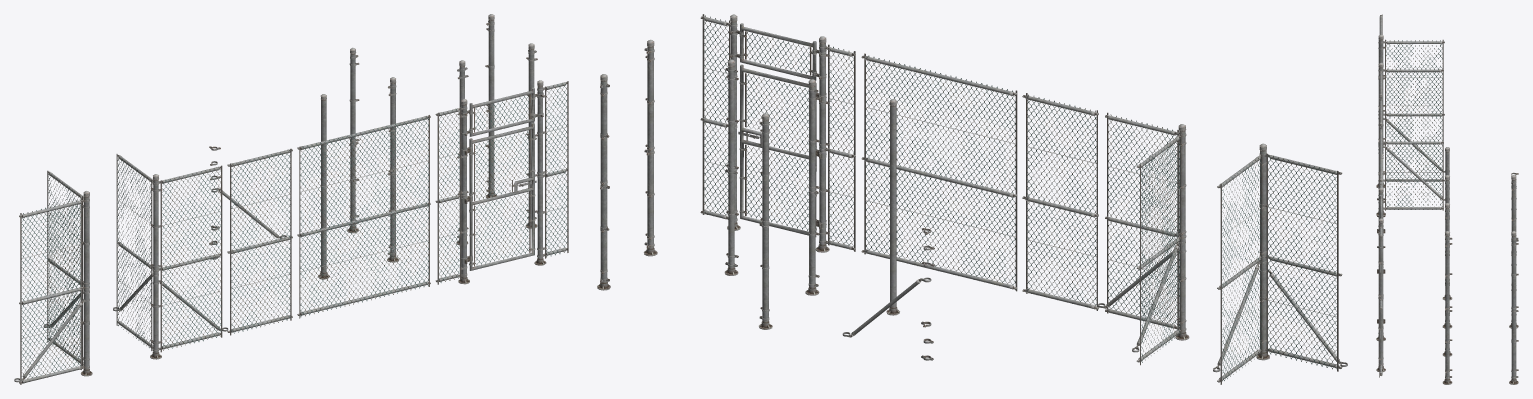
The model's file is chainlink_fence.glb.
3 views of the same model, side by side, from view 1: azimuth 30°, elevation 25°; view 2: azimuth 150°, elevation 25°; view 3: azimuth 270°, elevation 25° (orthographic). The views are drawn at different scales.
Visible parts, largest first — view 1: modular_chainlink_fence_double, modular_chainlink_fence_corner_outer, modular_chainlink_fence_corner_inner, modular_chainlink_fence_door_frame, modular_chainlink_fence, modular_chainlink_fence_door_gate, modular_chainlink_fence_start_01_corner_02, modular_chainlink_fence_end_02, modular_chainlink_fence_end_01, modular_chainlink_fence_post, modular_chainlink_fence_start_01_corner_01, modular_chainlink_post_middle; view 2: modular_chainlink_fence_double, modular_chainlink_fence_corner_inner, modular_chainlink_fence_corner_outer, modular_chainlink_fence_door_frame, modular_chainlink_fence, modular_chainlink_fence_door_gate, modular_chainlink_fence_start_01_corner_02, modular_chainlink_post_middle, modular_chainlink_fence_end_01, modular_chainlink_fence_start_01_corner_01, modular_chainlink_fence_end_02, modular_chainlink_fence_post; view 3: modular_chainlink_fence_corner_outer, modular_chainlink_fence_corner_inner, modular_chainlink_fence_door_frame, modular_chainlink_fence_start_01_corner_02, modular_chainlink_fence_start_01_corner_01, modular_chainlink_fence_end_02, modular_chainlink_fence_double, modular_chainlink_fence_end_01, modular_chainlink_post_middle, modular_chainlink_fence_post.
Boxes of the visible parts, x1,y1,x2,y2 form: modular_chainlink_fence_double: [297, 115, 430, 318]; modular_chainlink_fence_corner_outer: [113, 154, 228, 359]; modular_chainlink_fence_corner_inner: [14, 170, 92, 384]; modular_chainlink_fence_door_frame: [435, 80, 568, 284]; modular_chainlink_fence: [227, 148, 292, 335]; modular_chainlink_fence_door_gate: [469, 123, 535, 270]; modular_chainlink_fence_start_01_corner_02: [485, 14, 496, 198]; modular_chainlink_fence_end_02: [347, 47, 359, 233]; modular_chainlink_fence_end_01: [387, 77, 398, 262]; modular_chainlink_fence_post: [317, 94, 329, 279]; modular_chainlink_fence_start_01_corner_01: [525, 43, 537, 228]; modular_chainlink_post_middle: [456, 60, 468, 245]; modular_chainlink_fence_double: [861, 53, 1017, 291]; modular_chainlink_fence_corner_inner: [1213, 143, 1347, 384]; modular_chainlink_fence_corner_outer: [1097, 112, 1189, 365]; modular_chainlink_fence_door_frame: [700, 14, 855, 252]; modular_chainlink_fence: [1022, 93, 1098, 310]; modular_chainlink_fence_door_gate: [739, 64, 816, 236]; modular_chainlink_fence_start_01_corner_02: [597, 74, 610, 290]; modular_chainlink_post_middle: [724, 59, 738, 275]; modular_chainlink_fence_end_01: [805, 79, 819, 295]; modular_chainlink_fence_start_01_corner_01: [643, 39, 657, 256]; modular_chainlink_fence_end_02: [758, 113, 772, 329]; modular_chainlink_fence_post: [886, 99, 899, 315]; modular_chainlink_fence_corner_outer: [1376, 62, 1449, 233]; modular_chainlink_fence_corner_inner: [1376, 14, 1449, 188]; modular_chainlink_fence_door_frame: [1376, 182, 1385, 377]; modular_chainlink_fence_start_01_corner_02: [1509, 231, 1518, 384]; modular_chainlink_fence_start_01_corner_01: [1442, 231, 1452, 384]; modular_chainlink_fence_end_02: [1509, 175, 1518, 328]; modular_chainlink_fence_double: [1379, 126, 1382, 183]; modular_chainlink_fence_end_01: [1442, 175, 1452, 328]; modular_chainlink_post_middle: [1442, 203, 1452, 356]; modular_chainlink_fence_post: [1442, 147, 1452, 300].
Bounding box in the file's own units: 8.11 × 2.52 × 2.15.
2 materials, 2 textured.
